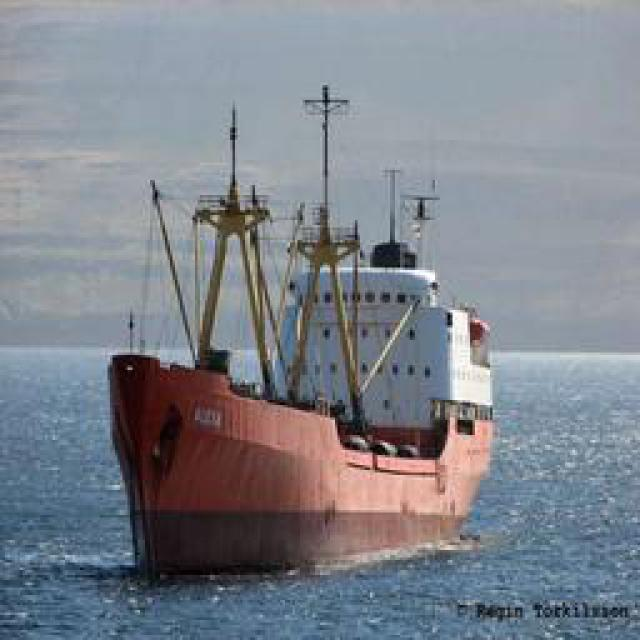Ship: (109, 76, 502, 589)
